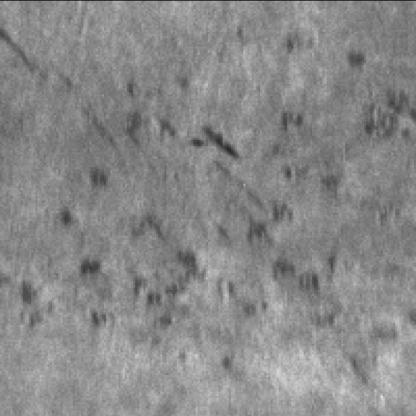rolled-in_scale: (16, 91, 412, 350), (324, 64, 416, 152)
